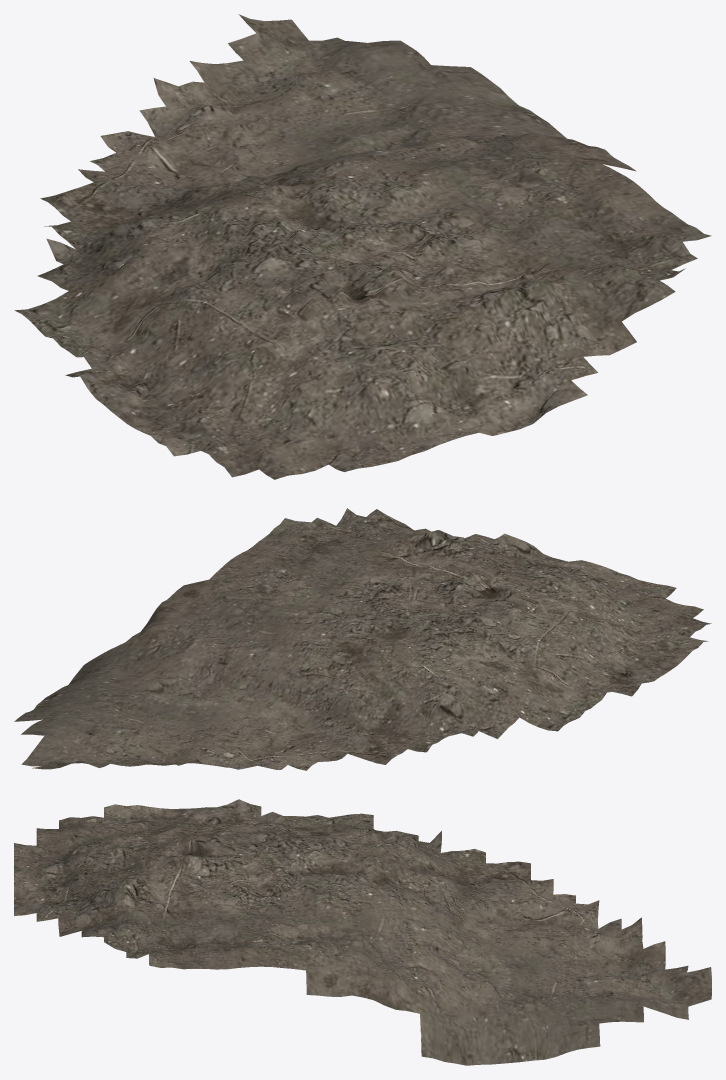
Rendered from Tierra_1.glb.
The picture shows the model from 3 angles, top to bottom: view 1: azimuth 30°, elevation 25°; view 2: azimuth 150°, elevation 25°; view 3: azimuth 270°, elevation 25°; orthographic projection. The views are drawn at different scales.
Visible parts, largest first — view 1: Terreno; view 2: Terreno; view 3: Terreno.
Boxes of the visible parts, <box> form: Terreno: <box>14,14,711,479</box>; Terreno: <box>14,508,711,770</box>; Terreno: <box>14,799,711,1065</box>.
Bounding box in the file's own units: 28.58 × 4.62 × 36.39.
1 material, 1 textured.
